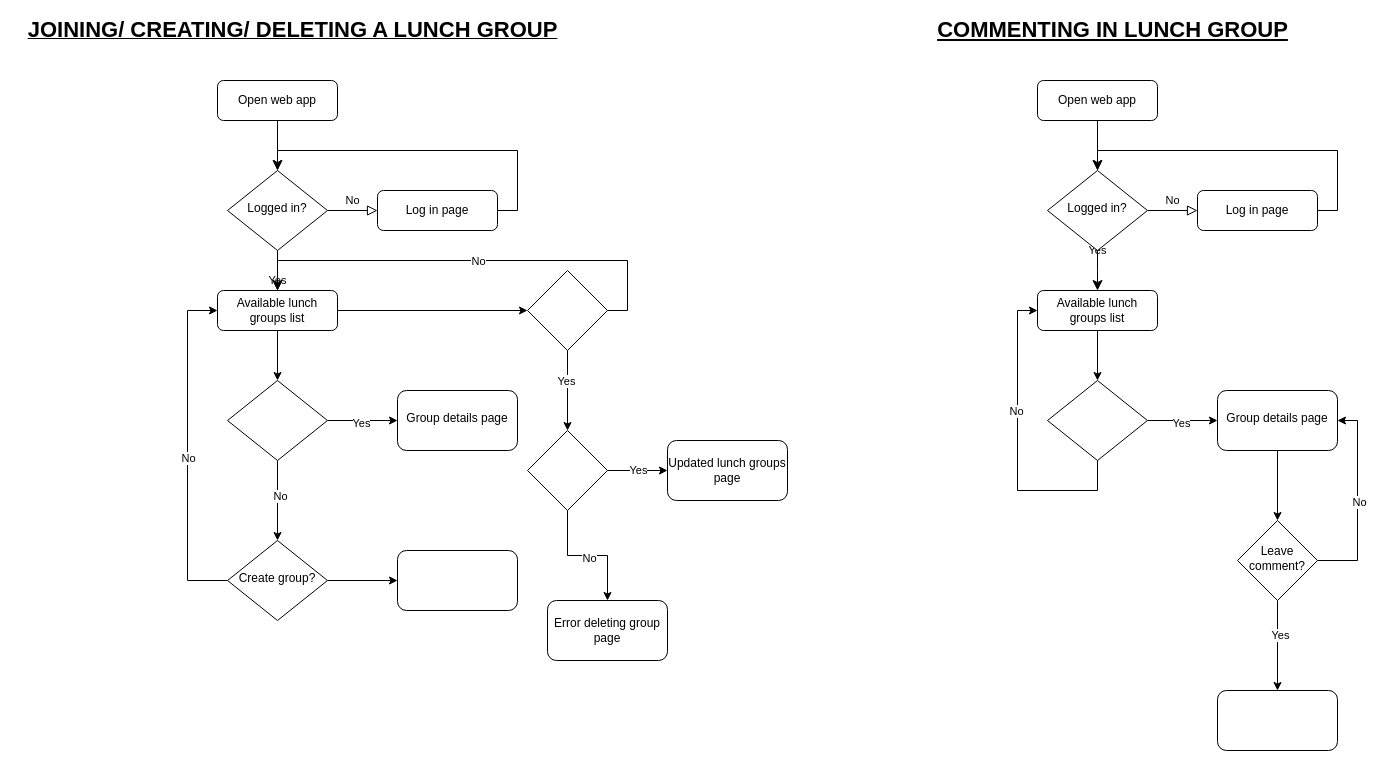
Image size: 1383x768. Some labels were removed from this diagram. The box of each missing label's shape, as (x1, y1, x2, y2) in pixels:
Delete group?: (526, 270, 608, 350)
Group creation page: (396, 550, 518, 610)
Group details page updated with comments: (1216, 690, 1338, 750)
Is user group owner?: (526, 430, 608, 510)
Join group?: (226, 380, 328, 460)
Select joined group?: (1046, 380, 1148, 460)
